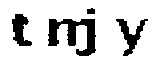j: (76, 7, 103, 60)
m: (45, 17, 89, 49)
t: (9, 10, 34, 50)
y: (112, 16, 153, 59)
